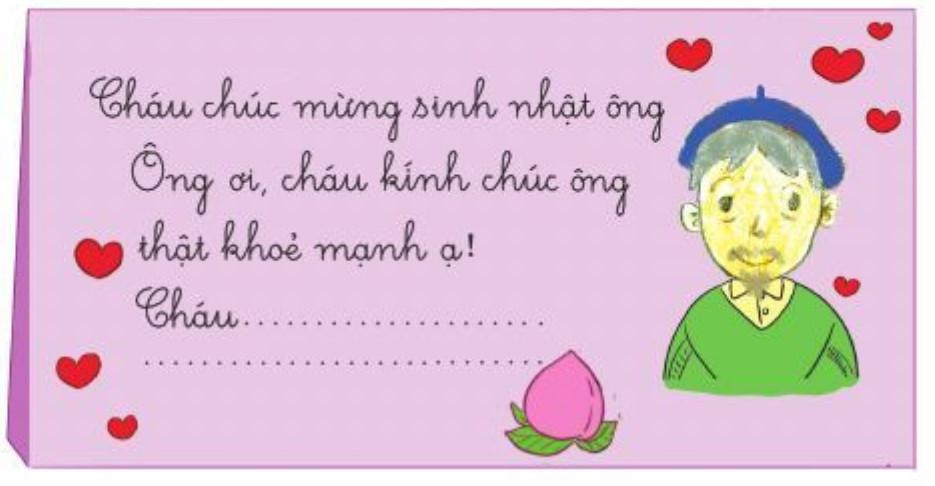text: (86, 69, 668, 145), (130, 144, 633, 218), (135, 215, 480, 271), (133, 284, 241, 333)
